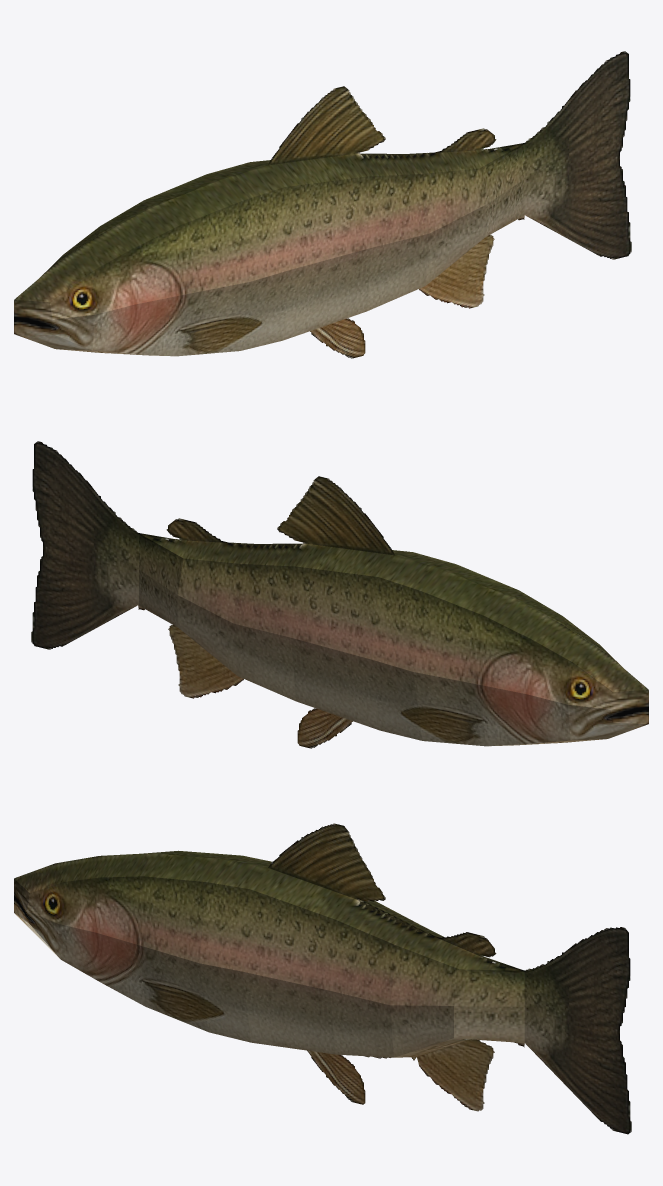
File: Rainbow_Trout.fbx
The picture shows the model from 3 angles, top to bottom: view 1: azimuth 30°, elevation 25°; view 2: azimuth 150°, elevation 25°; view 3: azimuth 330°, elevation 25°; orthographic projection.
Parts seen in each view (by area): view 1: Rainbow_Trout; view 2: Rainbow_Trout; view 3: Rainbow_Trout.
Boxes of the visible parts, left/top/right/bottom form: Rainbow_Trout: left=14, top=51, right=631, bottom=358; Rainbow_Trout: left=31, top=441, right=648, bottom=748; Rainbow_Trout: left=14, top=823, right=631, bottom=1134.
Size of the model in its own units: 118 by 56.94 by 16.22.
